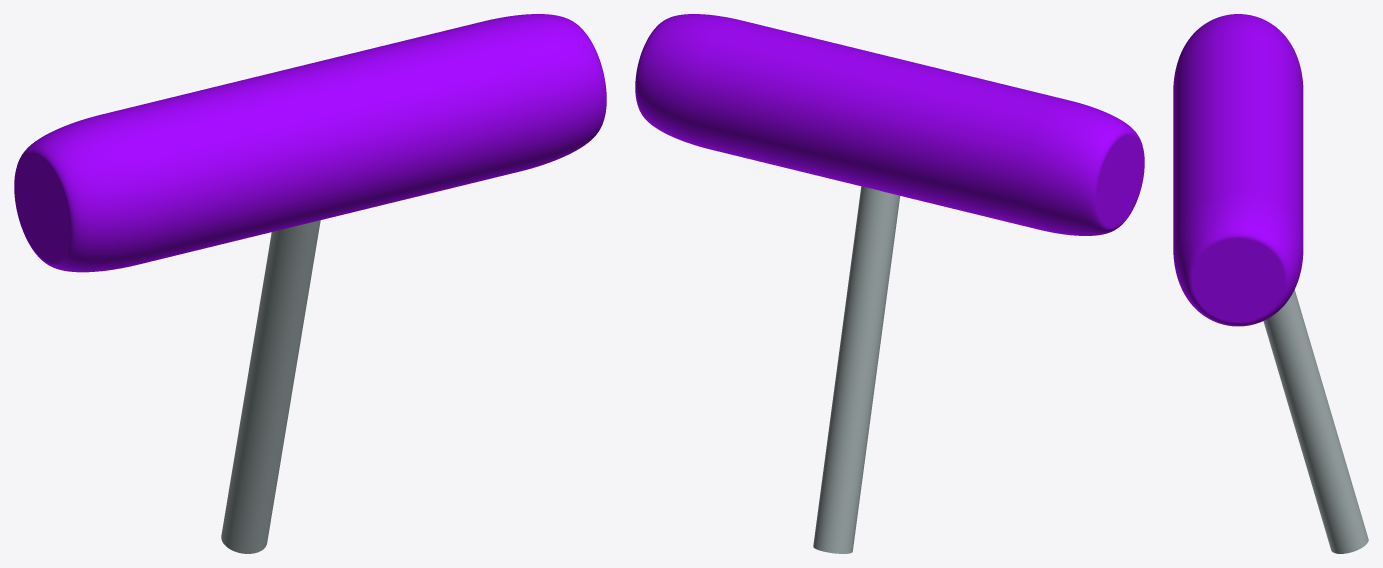
File: Lever_Purpple2.glb
3 renders of one model, left to right at view 1: azimuth 30°, elevation 25°; view 2: azimuth 150°, elevation 25°; view 3: azimuth 270°, elevation 25°, orthographic. The views are drawn at different scales.
Parts seen in each view (by area): view 1: Lever Top, Lever Body; view 2: Lever Top, Lever Body; view 3: Lever Top, Lever Body.
Boxes of the visible parts, left/top/right/bottom form: Lever Top: left=14, top=14, right=606, bottom=272; Lever Body: left=221, top=220, right=320, bottom=553; Lever Top: left=635, top=14, right=1144, bottom=235; Lever Body: left=813, top=186, right=900, bottom=553; Lever Top: left=1173, top=14, right=1303, bottom=326; Lever Body: left=1263, top=290, right=1368, bottom=553.
Bounding box in the file's own units: 0.2 × 0.1856 × 0.0751.
